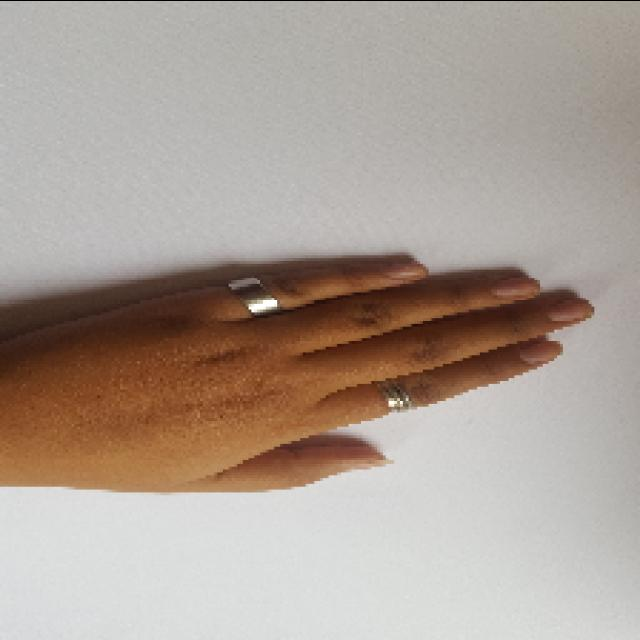Nail: (491, 276, 540, 296), (548, 299, 594, 320), (521, 340, 562, 361), (388, 260, 428, 278)
